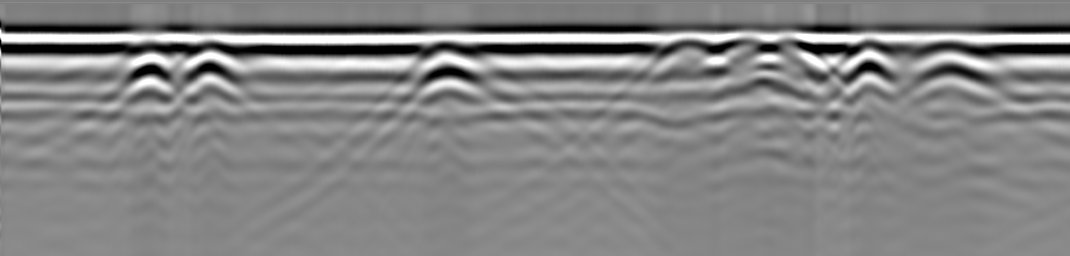pipe: (413, 37, 485, 86), (915, 37, 985, 81), (718, 35, 813, 63), (123, 36, 175, 79), (184, 37, 236, 80), (847, 37, 897, 75)
